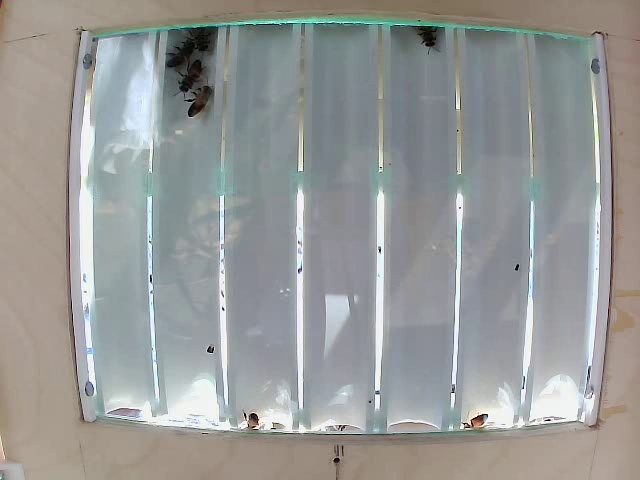bee: (189, 19, 225, 58), (170, 33, 204, 65), (185, 87, 218, 118), (413, 18, 434, 59), (178, 65, 204, 91)
